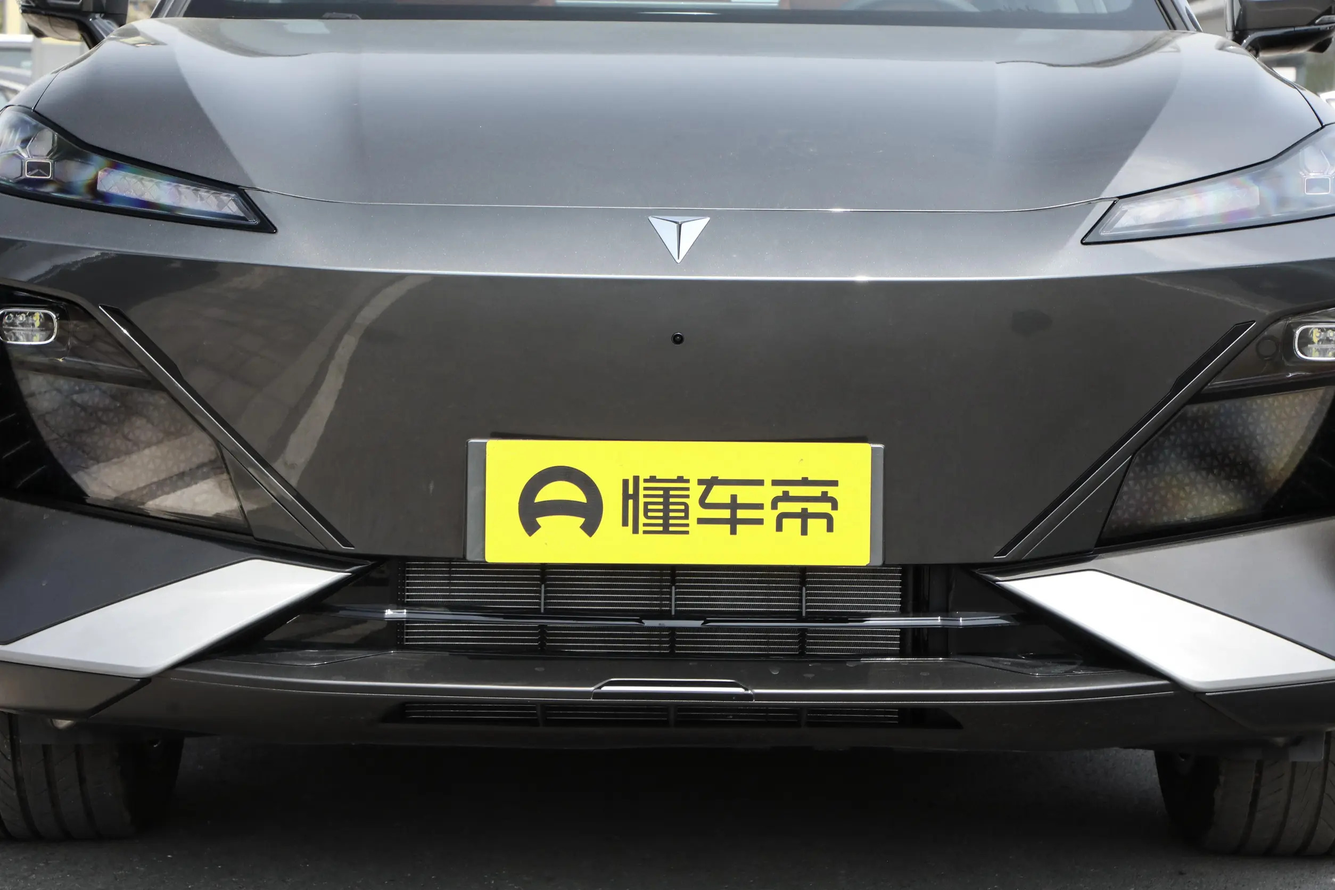Deepal: (648, 216, 710, 263)
